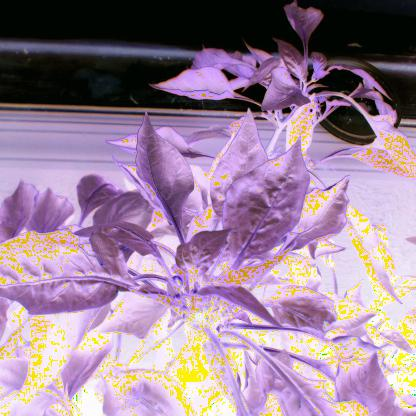bell pepper leaf: (6, 228, 131, 312), (226, 139, 309, 264), (129, 105, 195, 236), (209, 104, 270, 226), (254, 347, 332, 416), (335, 351, 413, 416), (298, 173, 351, 247), (266, 280, 337, 331), (5, 178, 72, 230), (92, 189, 153, 246), (151, 67, 233, 102), (259, 63, 312, 114), (347, 142, 416, 181), (370, 116, 416, 172), (74, 171, 126, 213), (283, 1, 327, 44)
